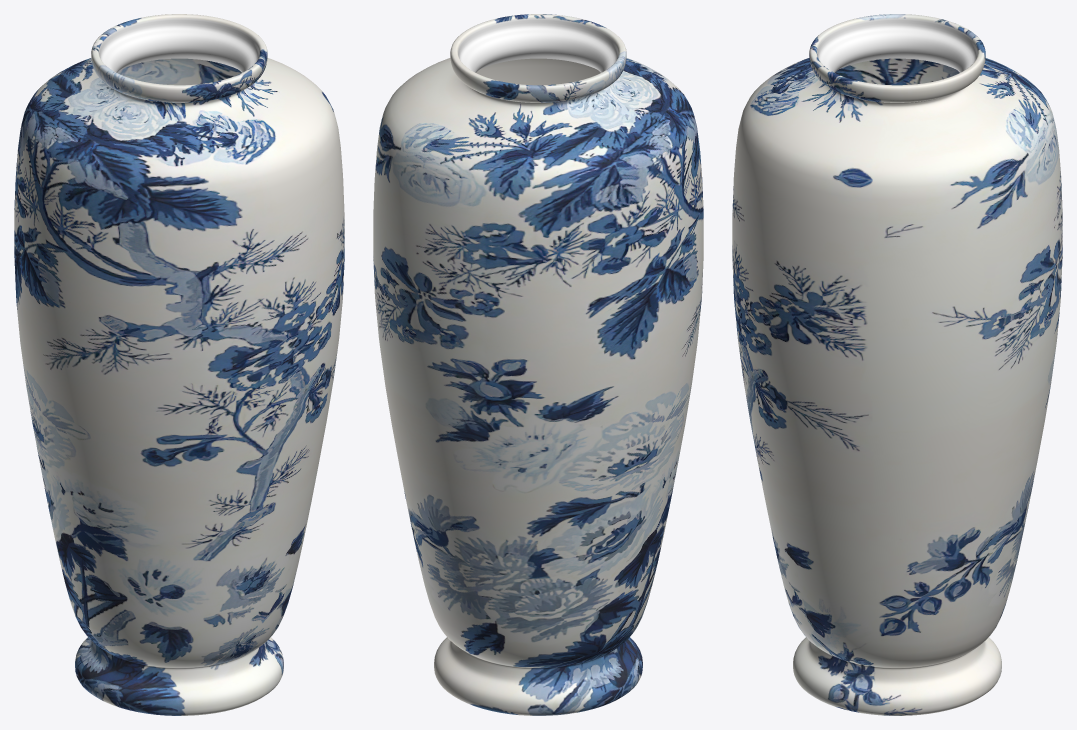
The model's file is qinghuaci.glb.
3 views of the same model, side by side, from view 1: azimuth 30°, elevation 25°; view 2: azimuth 150°, elevation 25°; view 3: azimuth 270°, elevation 25° (orthographic).
Visible parts, largest first — view 1: 建E_model_202352520592448340; view 2: 建E_model_202352520592448340; view 3: 建E_model_202352520592448340.
Boxes of the visible parts, x1,y1,x2,y2 form: 建E_model_202352520592448340: (14, 14, 344, 715); 建E_model_202352520592448340: (373, 14, 703, 715); 建E_model_202352520592448340: (732, 14, 1062, 715).
Size of the model in its own units: 0.1102 by 0.2315 by 0.1102.
1 material, 1 textured.
